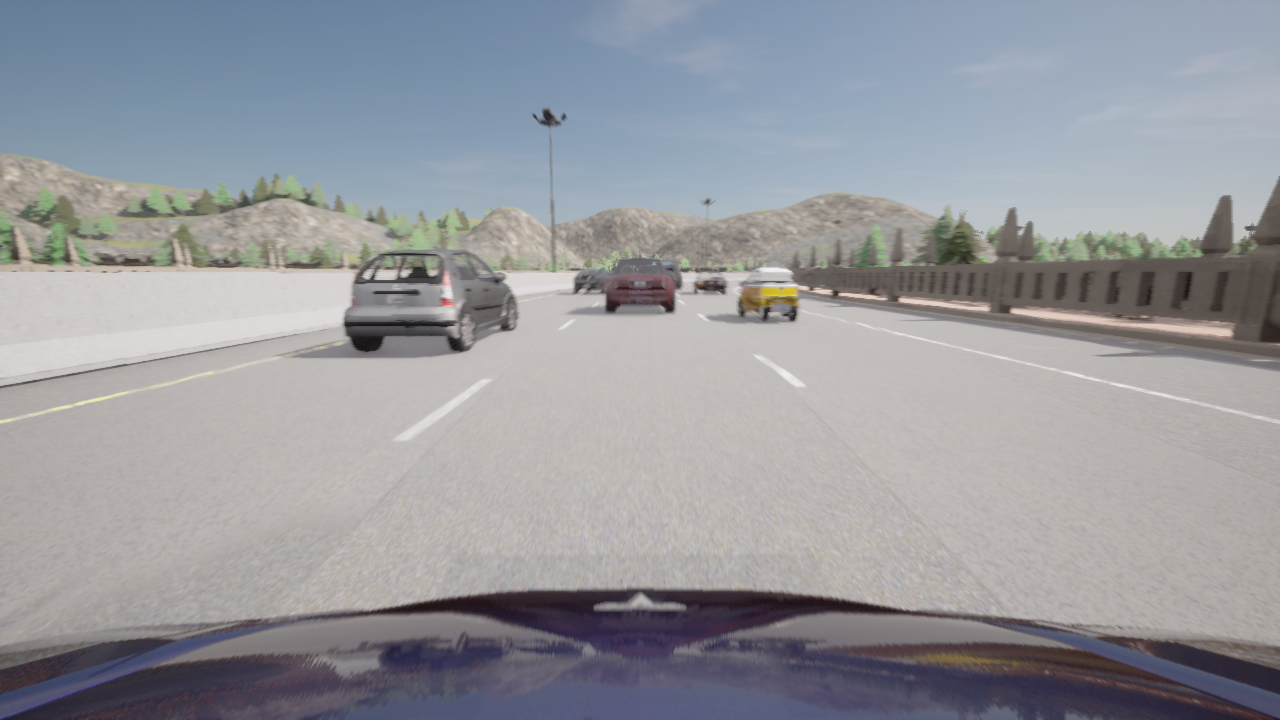cyclist: (0, 588, 1279, 719), (342, 249, 517, 351), (605, 257, 674, 312), (738, 267, 798, 321), (573, 268, 609, 293), (694, 272, 726, 293), (661, 261, 681, 290)
